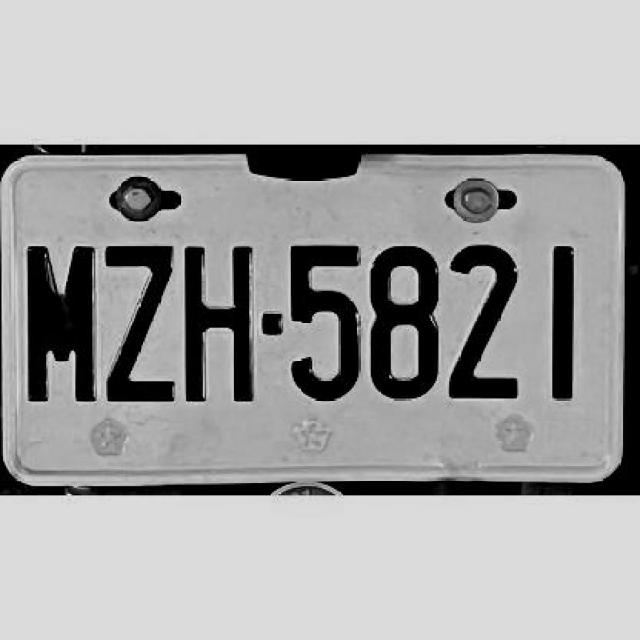-: (260, 314, 280, 337)
1: (548, 245, 577, 392)
2: (443, 237, 523, 403)
5: (288, 236, 366, 407)
8: (365, 238, 443, 402)
H: (177, 235, 255, 403)
M: (23, 242, 99, 403)
Z: (103, 238, 179, 408)
